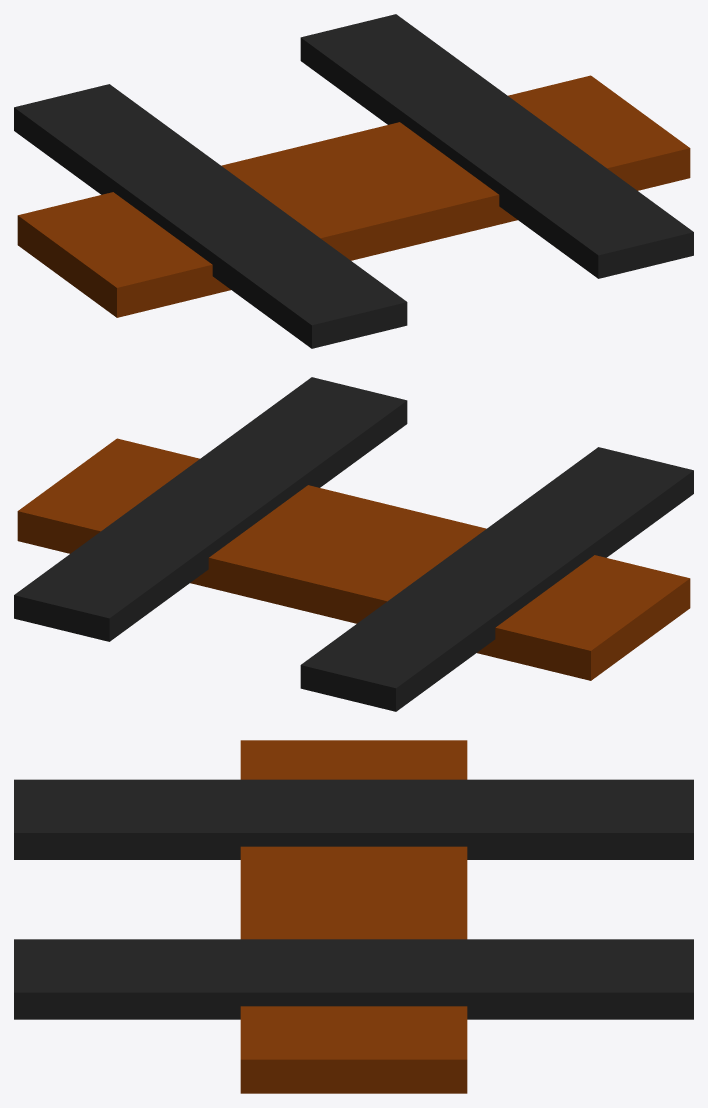
File: track.dae
3 views of the same model, one above another, from view 1: azimuth 30°, elevation 25°; view 2: azimuth 150°, elevation 25°; view 3: azimuth 270°, elevation 25° (orthographic). The views are drawn at different scales.
Parts seen in each view (by area): view 1: Track; view 2: Track; view 3: Track.
Part boxes in pixels (box(x1,y1,x2,y2)): Track: box(14, 14, 693, 348); Track: box(14, 377, 693, 711); Track: box(14, 740, 693, 1093).
Size of the model in its own units: 2 by 1.8 by 0.14.
